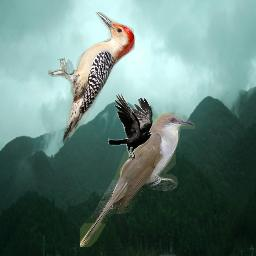Crow: (108, 93, 153, 162)
Cuckoo: (80, 113, 195, 247)
Woodpecker: (48, 12, 137, 145)
